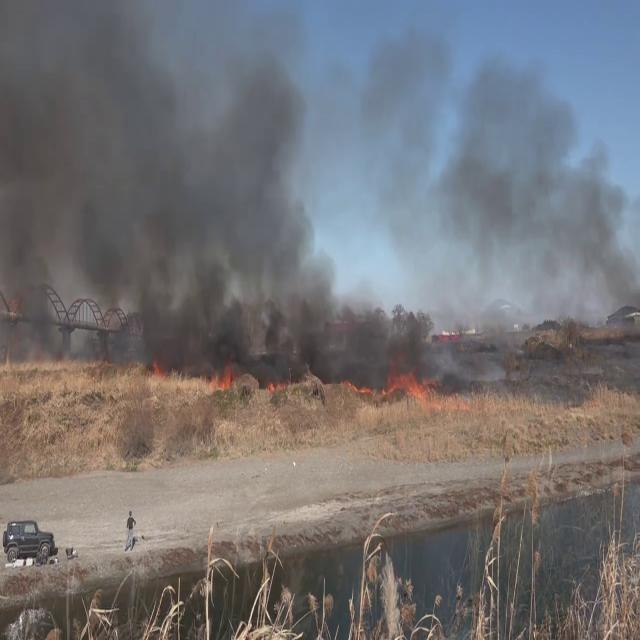Smoke: (0, 1, 326, 378), (344, 39, 640, 353)
